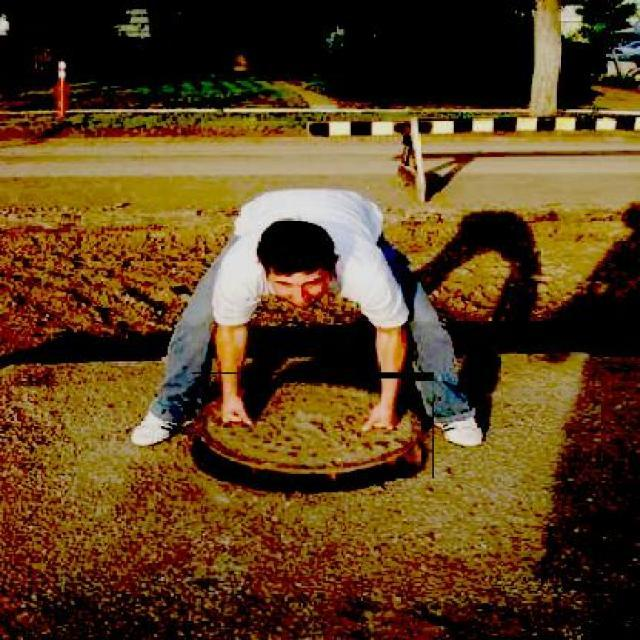Manhole: (186, 372, 434, 478)
